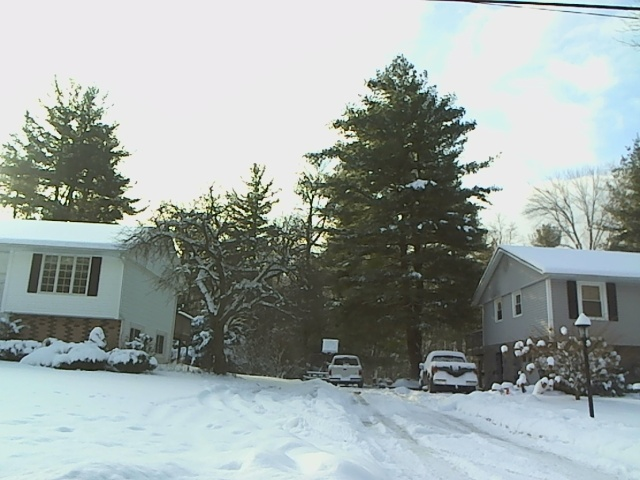Unploughed: (341, 385, 540, 473)
